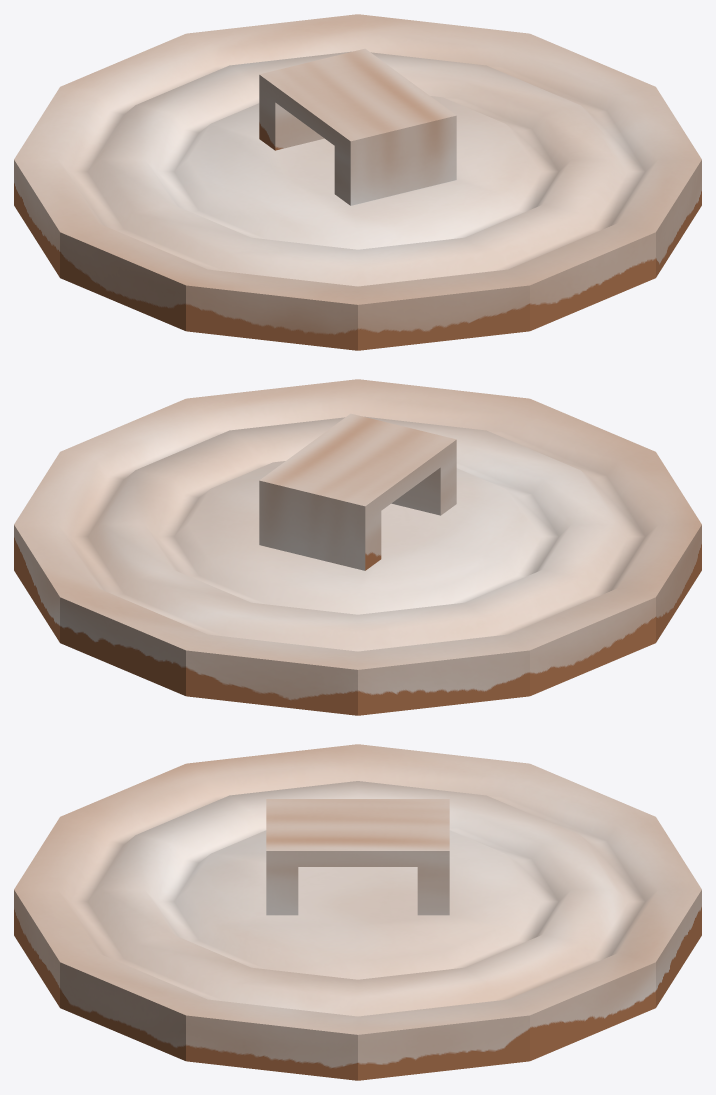
File: trashCanLid.fbx
3 renders of one model, top to bottom at view 1: azimuth 30°, elevation 25°; view 2: azimuth 150°, elevation 25°; view 3: azimuth 270°, elevation 25°, orthographic.
Visible parts, largest first — view 1: Trash_can_lid; view 2: Trash_can_lid; view 3: Trash_can_lid.
Part boxes in pixels (box(x1,y1,x2,y2)): Trash_can_lid: box(14, 14, 701, 350); Trash_can_lid: box(14, 379, 701, 715); Trash_can_lid: box(14, 744, 701, 1080).
Bounding box in the file's own units: 0.7095 × 0.1257 × 0.7095.
1 material, 1 textured.
